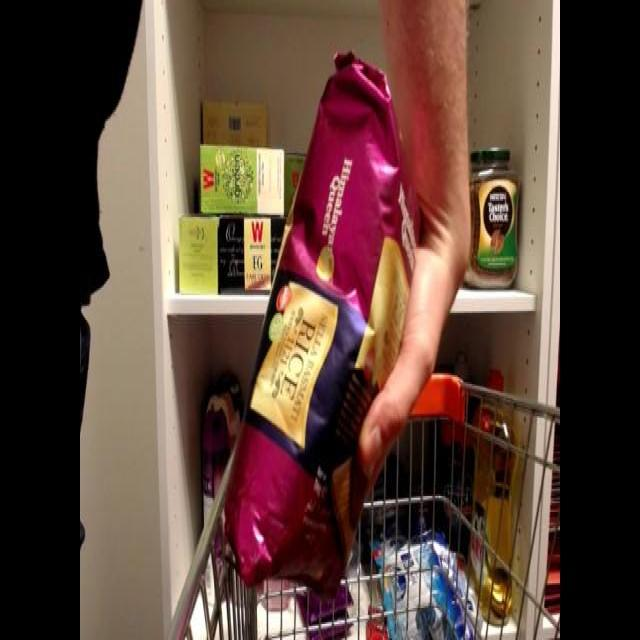Basmati Rice: (221, 52, 445, 584)
